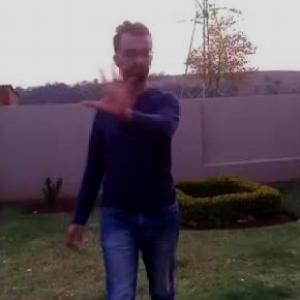follow_hand: (78, 58, 144, 119)
